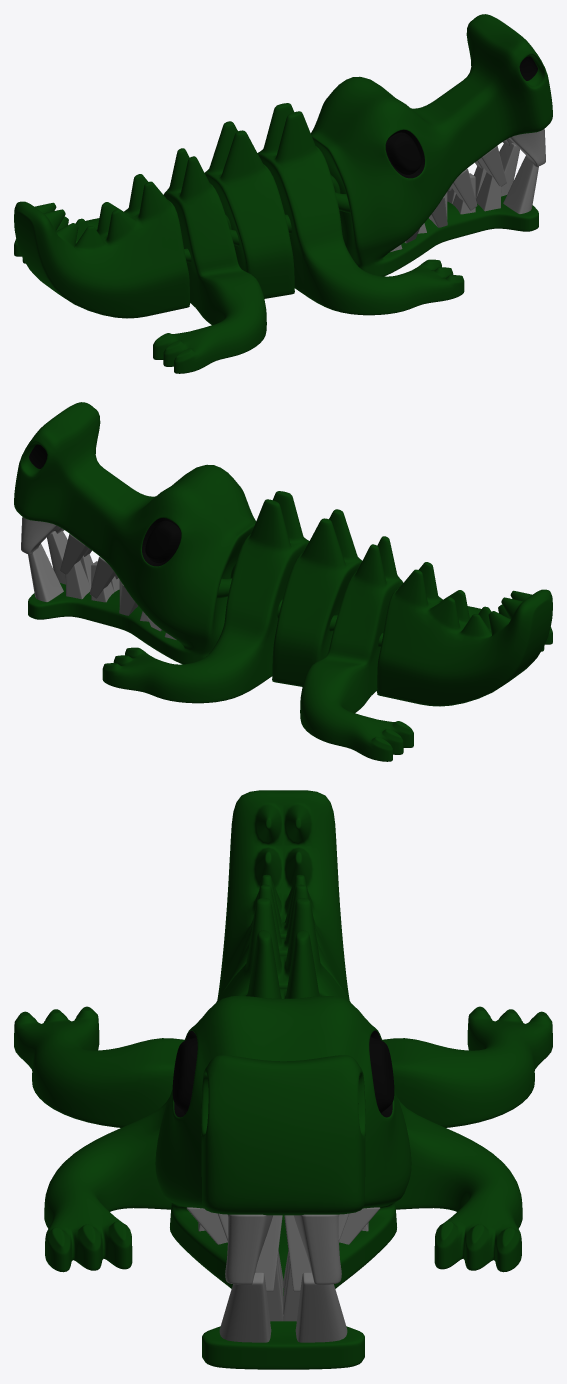
The model's file is ArtCrocodile FBX.FBX.
3 views of the same model, one above another, from view 1: azimuth 30°, elevation 25°; view 2: azimuth 150°, elevation 25°; view 3: azimuth 270°, elevation 25° (orthographic). The views are drawn at different scales.
Visible parts, largest first — view 1: Articulated Crocodile; view 2: Articulated Crocodile; view 3: Articulated Crocodile.
Part boxes in pixels (x1,y1,x2,y2): Articulated Crocodile: (14,14,552,373); Articulated Crocodile: (14,402,552,761); Articulated Crocodile: (14,790,552,1369).
Size of the model in its own units: 178 by 62.35 by 101.
